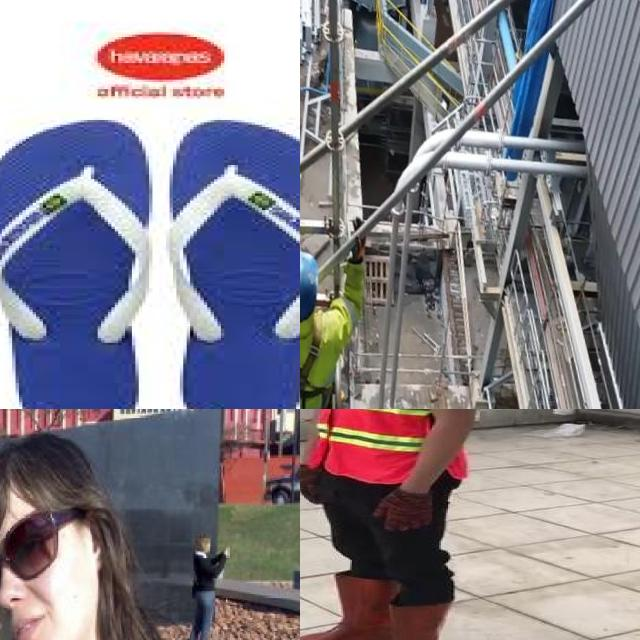Harness: (300, 328, 334, 409)
Sandals: (0, 19, 300, 409)
boots: (300, 576, 398, 640), (346, 603, 453, 640)
face_nomask: (0, 522, 67, 640)
glasses: (0, 516, 109, 597)
hand_glove: (370, 490, 437, 532), (300, 463, 325, 505)
head_nohelmet: (0, 425, 80, 520)
person: (0, 430, 300, 640), (300, 409, 500, 640)
vest: (311, 409, 473, 482)
